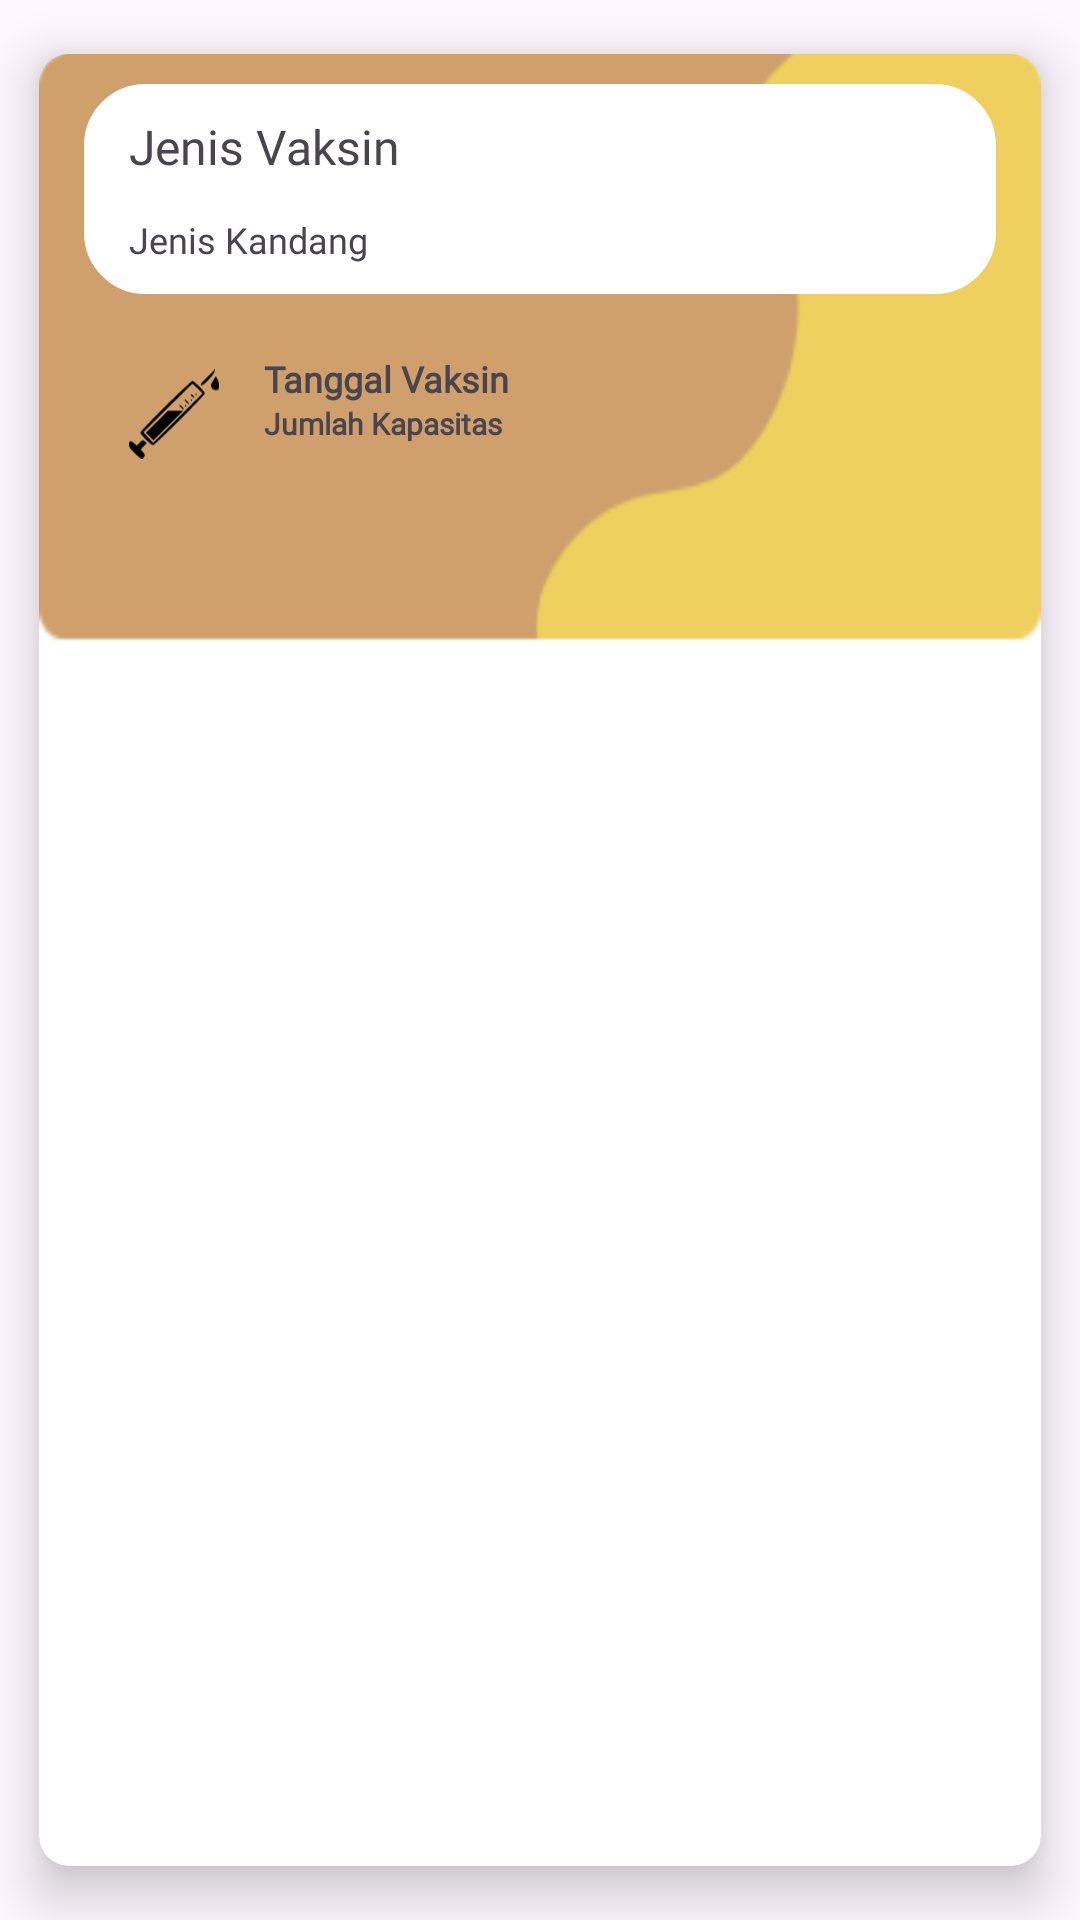

Icons on this 1080 × 1920 Android screen, each with its box as [x1, y1, x2, y2]:
vaccine: [129, 369, 219, 459]
